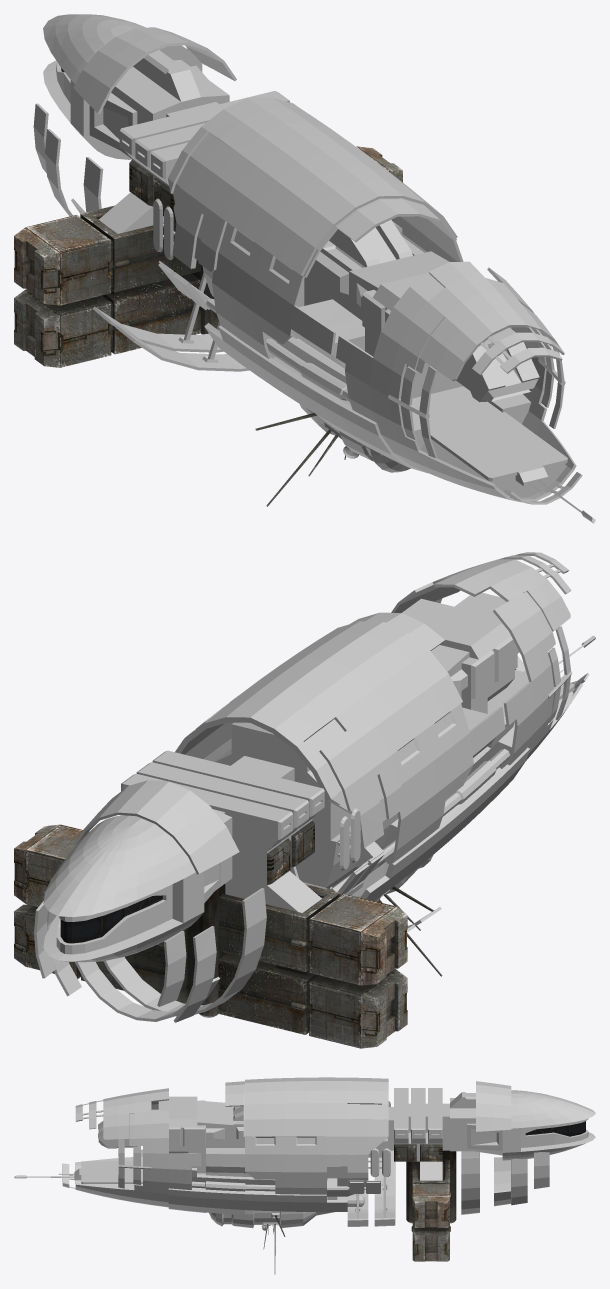
File: spacestation_outpost_pirate_l0.fbx
The picture shows the model from 3 angles, top to bottom: view 1: azimuth 30°, elevation 25°; view 2: azimuth 150°, elevation 25°; view 3: azimuth 270°, elevation 25°; orthographic projection. The views are drawn at different scales.
Visible parts, largest first — view 1: mesh_node; view 2: mesh_node; view 3: mesh_node.
Boxes of the visible parts, x1=… form: mesh_node: x1=14, y1=14, x2=595, y2=523; mesh_node: x1=14, y1=552, x2=595, y2=1048; mesh_node: x1=14, y1=1077, x2=595, y2=1274.
Size of the model in its own units: 125 by 104 by 322.
